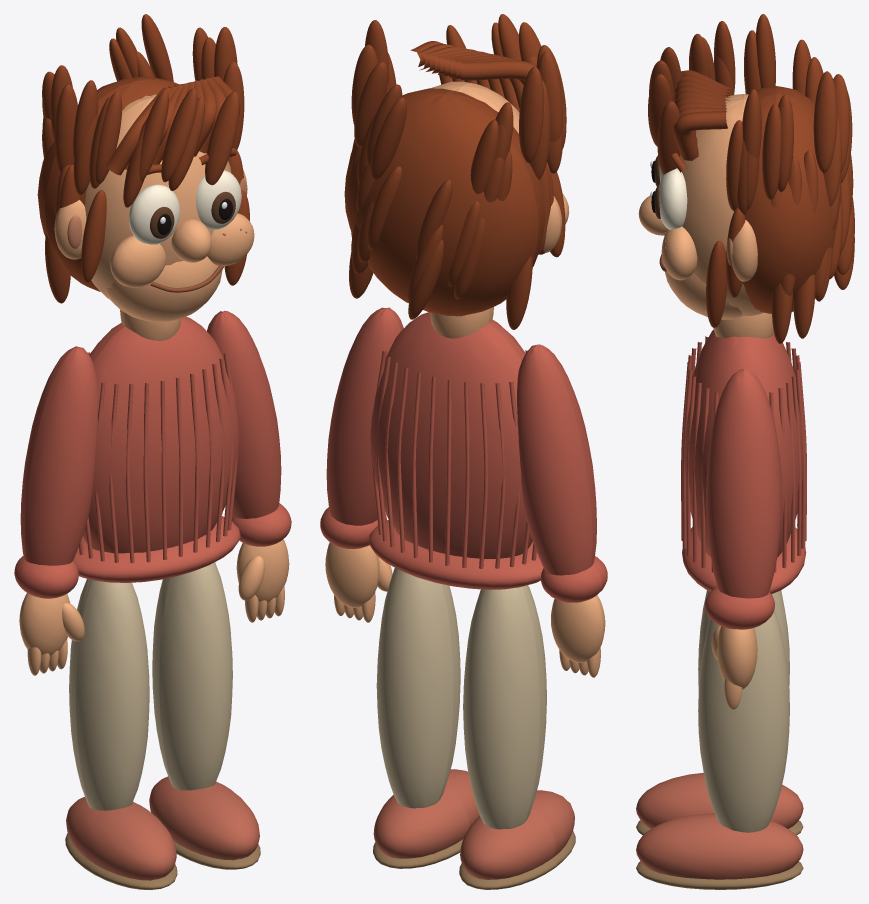
File: katya.glb
The picture shows the model from 3 angles, left to right: view 1: azimuth 30°, elevation 25°; view 2: azimuth 150°, elevation 25°; view 3: azimuth 270°, elevation 25°; orthographic projection. The views are drawn at different scales.
Parts seen in each view (by area): view 1: Брюки (×2), Свитер, Рукав (×2), Прядь волос (×19), Обувь (×2), Вязка (×9), Голова, Низ свитера, Подбородок, Ладонь (×2), Щека (×2), Манжета (×2) (+8 smaller); view 2: Брюки (×2), Свитер, Объём волос сзади, Рукав (×2), Прядь волос (×20), Обувь (×2), Вязка (×9), Ладонь (×2), Низ свитера, Манжета (×2), Подошва (×2), Чёлка (×2) (+3 smaller); view 3: Прядь волос (×28), Брюки (×2), Рукав, Обувь (×2), Объём волос сзади, Свитер, Голова, Вязка (×8), Ладонь, Манжета, Низ свитера, Подошва (+7 smaller).
Part boxes in pixels (x1,y1,x2,y2): Брюки (×2): [69, 562, 232, 810]; Свитер: [82, 316, 239, 553]; Рукав (×2): [20, 311, 281, 565]; Прядь волос (×19): [45, 14, 249, 303]; Обувь (×2): [66, 776, 259, 880]; Вязка (×9): [109, 358, 233, 563]; Голова: [84, 94, 231, 299]; Низ свитера: [73, 516, 240, 582]; Подбородок: [106, 256, 222, 321]; Ладонь (×2): [19, 539, 289, 656]; Щека (×2): [110, 213, 254, 287]; Манжета (×2): [14, 503, 291, 598]; Брюки (×2): [376, 568, 546, 829]; Свитер: [370, 312, 532, 558]; Объём волос сзади: [344, 88, 545, 316]; Рукав (×2): [326, 307, 596, 575]; Прядь волос (×20): [351, 14, 565, 329]; Обувь (×2): [373, 769, 574, 879]; Вязка (×9): [376, 356, 504, 568]; Ладонь (×2): [325, 542, 605, 662]; Низ свитера: [369, 520, 543, 589]; Манжета (×2): [320, 507, 607, 602]; Подошва (×2): [373, 831, 575, 889]; Чёлка (×2): [443, 53, 536, 111]; Прядь волос (×28): [648, 14, 854, 343]; Брюки (×2): [698, 590, 789, 832]; Рукав: [706, 369, 781, 598]; Обувь (×2): [636, 773, 803, 879]; Объём волос сзади: [742, 86, 841, 313]; Свитер: [684, 330, 804, 557]; Голова: [677, 94, 763, 316]; Вязка (×8): [682, 369, 805, 568]; Ладонь: [717, 626, 757, 689]; Манжета: [705, 587, 774, 629]; Низ свитера: [682, 527, 806, 594]; Подошва: [636, 861, 803, 889].
Size of the model in its own units: 1.16 by 3.31 by 0.8111.
